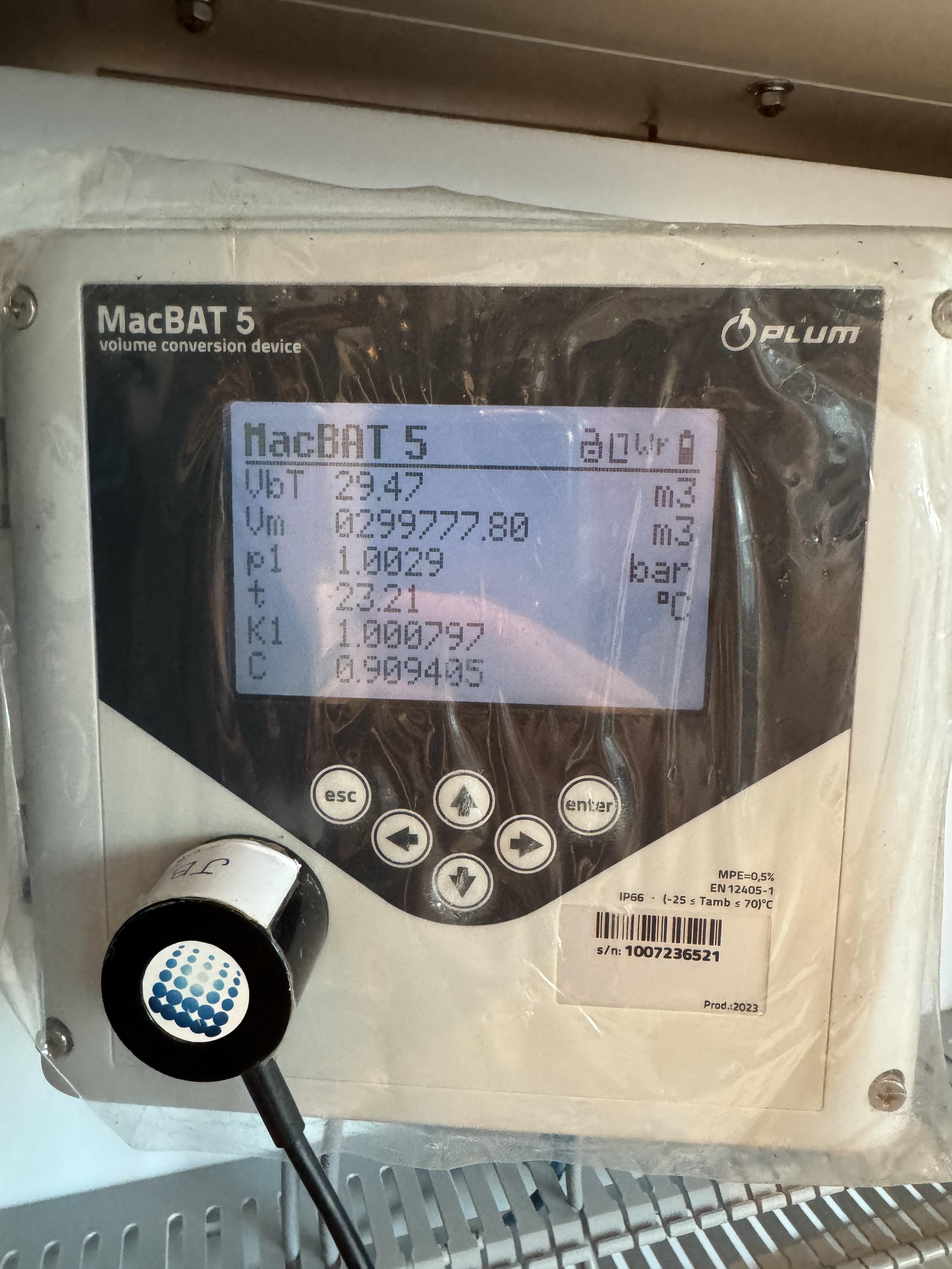digital_screen: (212, 387, 724, 715)
